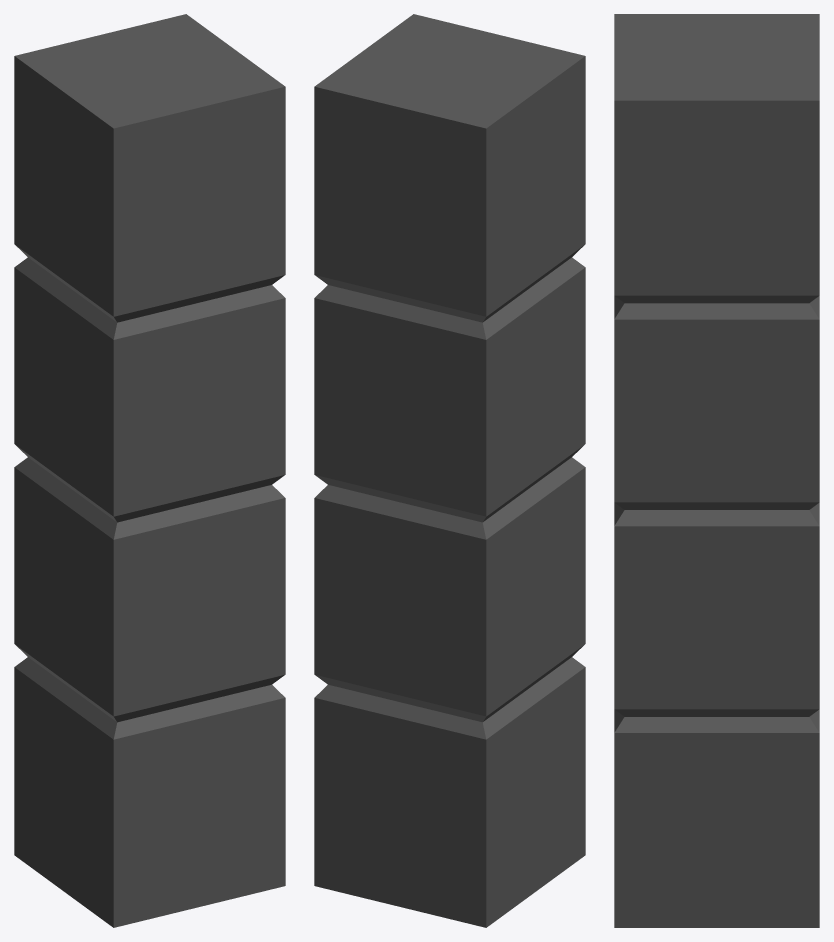
The model's file is Pillar_C0.fbx.
3 renders of one model, left to right at view 1: azimuth 30°, elevation 25°; view 2: azimuth 150°, elevation 25°; view 3: azimuth 270°, elevation 25°, orthographic. The views are drawn at different scales.
Parts seen in each view (by area): view 1: Pillar C0; view 2: Pillar C0; view 3: Pillar C0.
Boxes of the visible parts, left/top/right/bottom form: Pillar C0: left=14, top=14, right=285, bottom=927; Pillar C0: left=314, top=14, right=585, bottom=927; Pillar C0: left=614, top=14, right=819, bottom=927.
Size of the model in its own units: 90 by 400 by 90.
